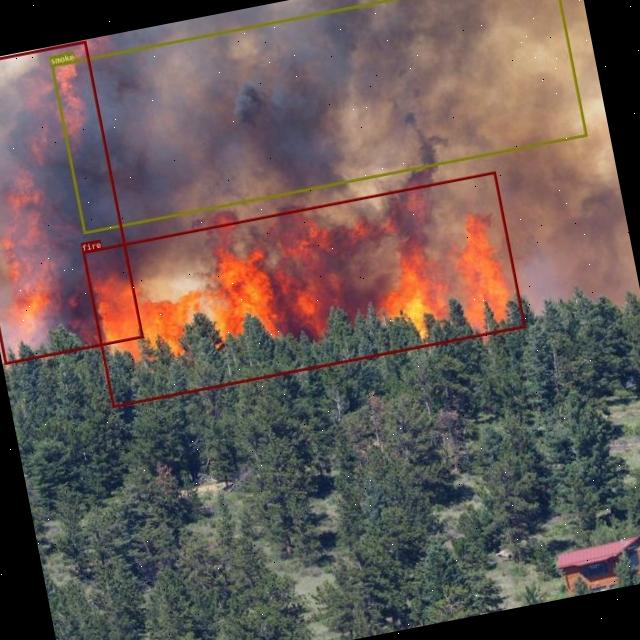fire: (82, 171, 526, 407), (0, 41, 143, 364)
smoke: (50, 0, 586, 233)
